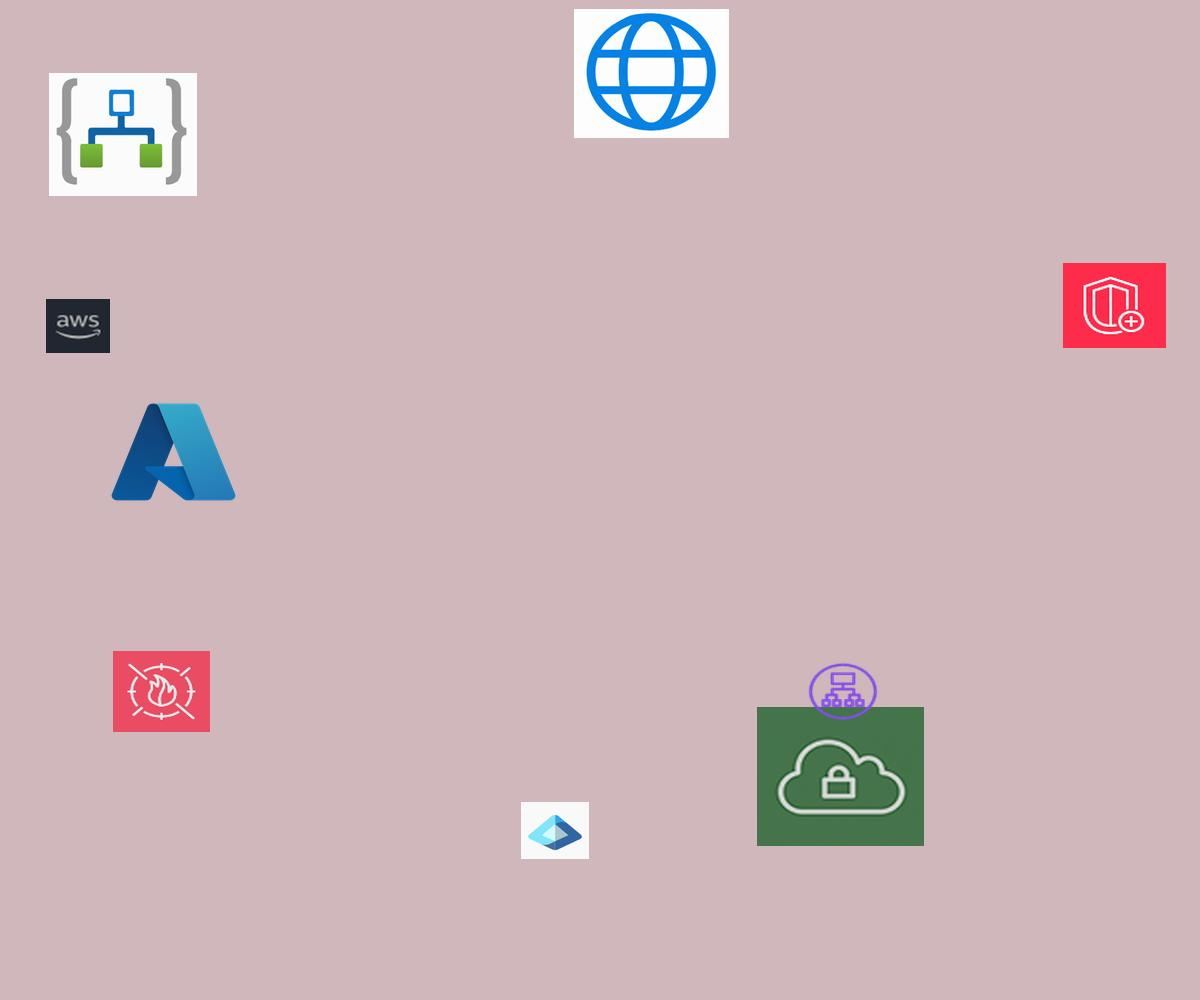AWS-Cloud-logo: (46, 299, 110, 353)
AWS-Private_vpc: (757, 707, 924, 846)
AWS-Res_Elastic-Load-Balancing_Application-Load-Balancer: (806, 661, 880, 722)
AWS-Shield: (1063, 263, 1166, 348)
AWS-WAF: (113, 651, 210, 732)
Azure_http: (574, 9, 729, 138)
Azure_integration-204-Logic-Apps: (49, 73, 197, 196)
Azure_microsoft_entra: (521, 802, 589, 859)
Azure_services: (106, 396, 241, 508)
